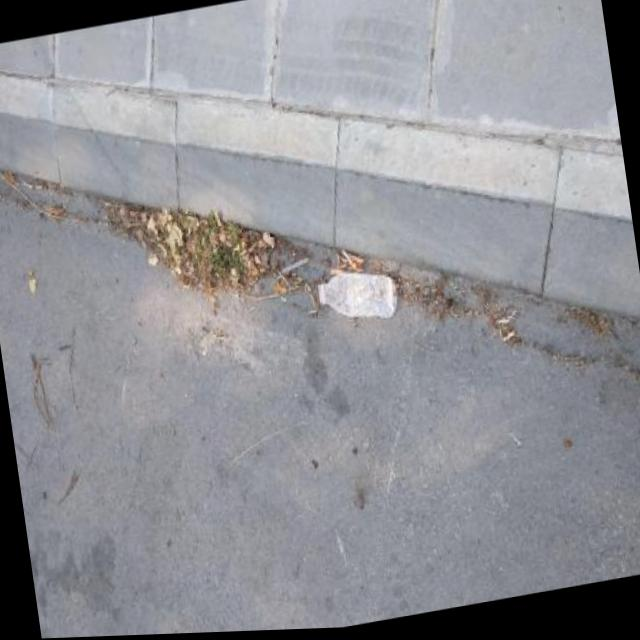plastic: (314, 262, 401, 328)
